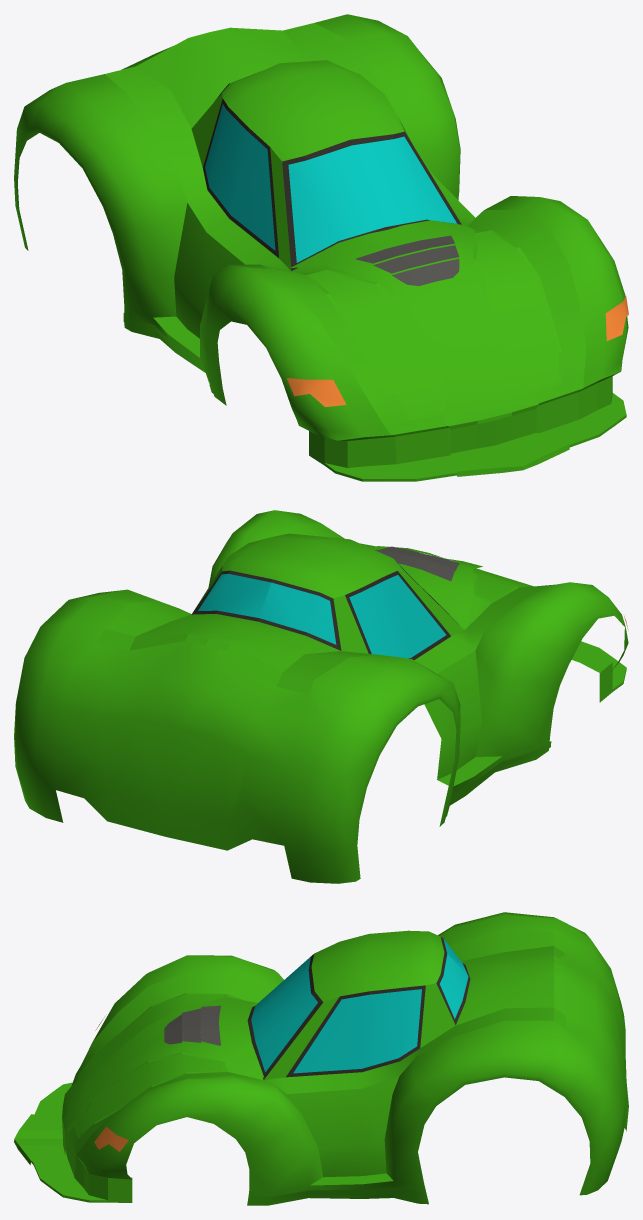
The model's file is LuxCasing00C03.gltf.
3 views of the same model, one above another, from view 1: azimuth 30°, elevation 25°; view 2: azimuth 150°, elevation 25°; view 3: azimuth 270°, elevation 25° (orthographic). The views are drawn at different scales.
Parts seen in each view (by area): view 1: LuxCasing00C03; view 2: LuxCasing00C03; view 3: LuxCasing00C03.
Part boxes in pixels (box(x1,y1,x2,y2)): LuxCasing00C03: box(14, 14, 628, 481); LuxCasing00C03: box(14, 510, 628, 883); LuxCasing00C03: box(14, 912, 628, 1205).
Bounding box in the file's own units: 0.2129 × 0.129 × 0.3654.
1 material, 1 textured.
